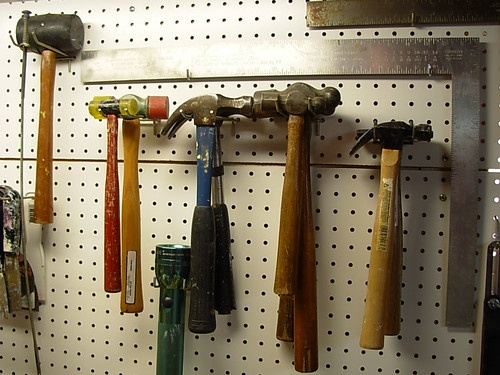hammer: (163, 94, 252, 331), (348, 119, 434, 354), (255, 82, 341, 296), (101, 96, 172, 317), (15, 14, 85, 223)
